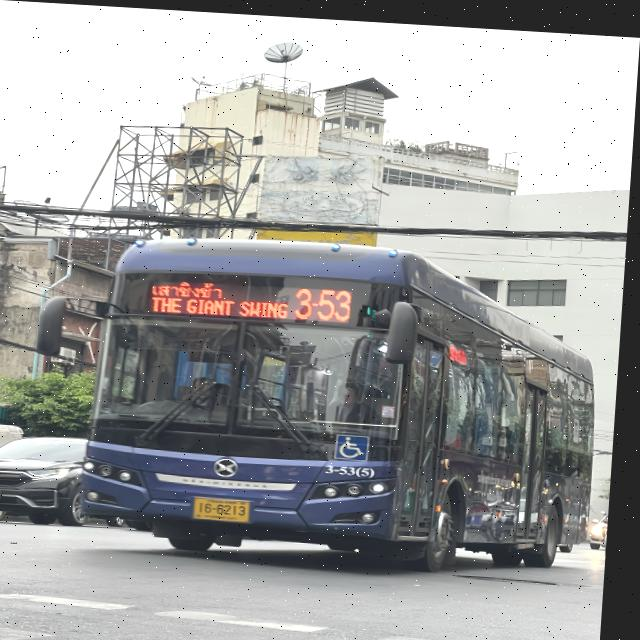Bus-Line-Number: (301, 278, 361, 321)
Destination-Sign-Normal: (146, 271, 300, 327)
TSB-Bus: (80, 229, 610, 574)
